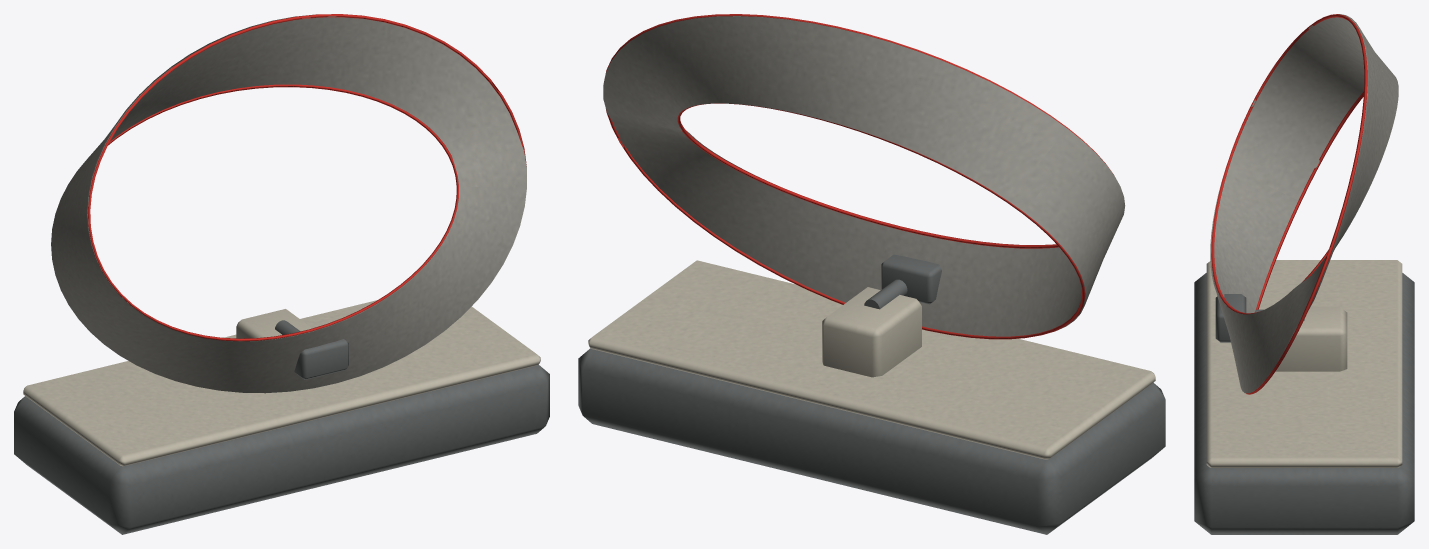
The model's file is 08-mobius-strip.fbx.
The picture shows the model from 3 angles, left to right: view 1: azimuth 30°, elevation 25°; view 2: azimuth 150°, elevation 25°; view 3: azimuth 270°, elevation 25°; orthographic projection. The views are drawn at different scales.
Visible parts, largest first — view 1: MOBIUS welded mid-surface, Grip base, Ivory deck, Single continuous red boundary, Support clamp, Display support; view 2: MOBIUS welded mid-surface, Ivory deck, Grip base, Display support, Single continuous red boundary, Support clamp; view 3: MOBIUS welded mid-surface, Ivory deck, Grip base, Single continuous red boundary, Display support, Support clamp.
Boxes of the visible parts, x1=… form: MOBIUS welded mid-surface: x1=51, y1=14, x2=526, y2=393; Grip base: x1=14, y1=364, x2=549, y2=534; Ivory deck: x1=23, y1=300, x2=540, y2=466; Single continuous red boundary: x1=88, y1=14, x2=526, y2=341; Support clamp: x1=294, y1=339, x2=348, y2=379; Display support: x1=236, y1=309, x2=312, y2=338; MOBIUS welded mid-surface: x1=603, y1=16, x2=1125, y2=336; Ivory deck: x1=588, y1=260, x2=1155, y2=459; Grip base: x1=578, y1=348, x2=1165, y2=534; Display support: x1=822, y1=287, x2=921, y2=377; Single continuous red boundary: x1=606, y1=14, x2=1113, y2=339; Support clamp: x1=881, y1=254, x2=941, y2=304; MOBIUS welded mid-surface: x1=1210, y1=14, x2=1398, y2=393; Ivory deck: x1=1206, y1=260, x2=1402, y2=467; Grip base: x1=1194, y1=273, x2=1414, y2=534; Single continuous red boundary: x1=1211, y1=14, x2=1367, y2=394; Display support: x1=1268, y1=306, x2=1347, y2=371; Support clamp: x1=1215, y1=294, x2=1246, y2=342.
Size of the model in its own units: 52 by 43 by 22.
4 materials, 4 textured.
